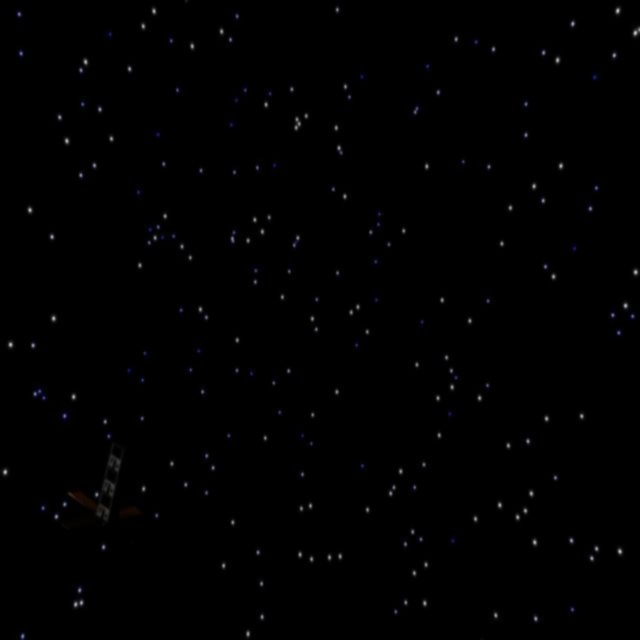satellite: (56, 441, 171, 557)
